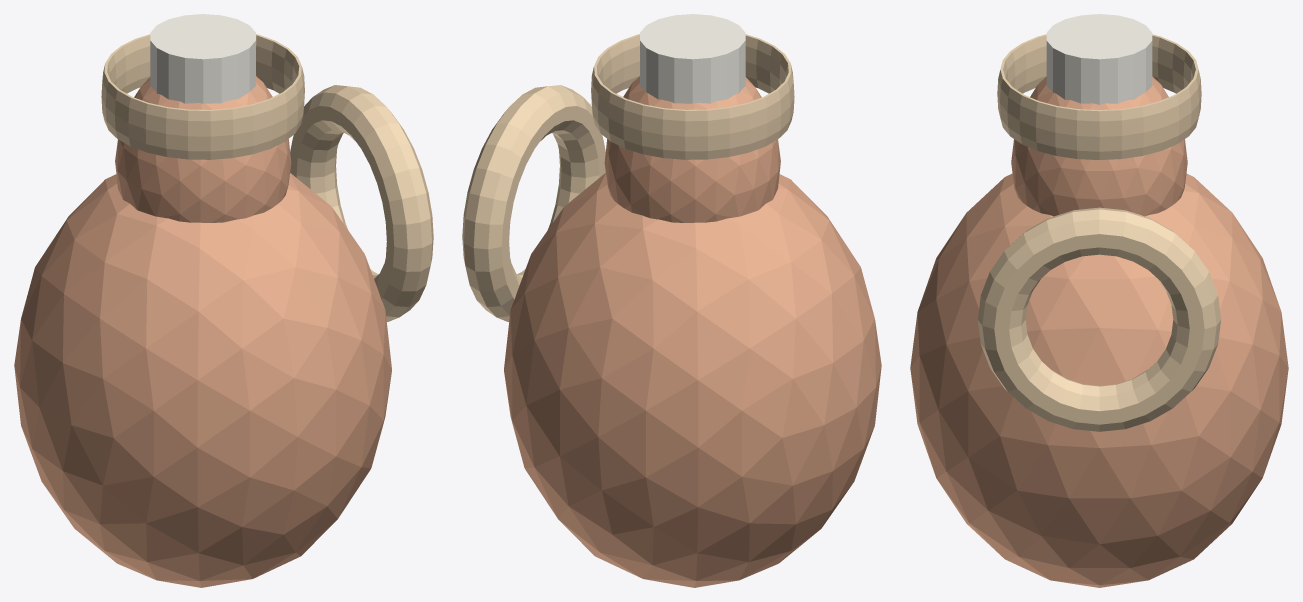
File: jar.glb
3 renders of one model, left to right at view 1: azimuth 30°, elevation 25°; view 2: azimuth 150°, elevation 25°; view 3: azimuth 270°, elevation 25°, orthographic.
Visible parts, largest first — view 1: Body, Handle, Rim, Neck, Cork; view 2: Body, Handle, Rim, Neck, Cork; view 3: Body, Handle, Rim, Neck, Cork.
Boxes of the visible parts, x1,y1,x2,y2 form: Body: [14, 173, 391, 587]; Handle: [290, 85, 433, 321]; Rim: [101, 34, 304, 159]; Neck: [115, 76, 291, 222]; Cork: [150, 14, 255, 103]; Body: [504, 173, 881, 587]; Handle: [462, 85, 605, 321]; Rim: [591, 34, 794, 159]; Neck: [604, 76, 780, 222]; Cork: [640, 14, 745, 103]; Body: [910, 173, 1288, 587]; Handle: [977, 207, 1221, 431]; Rim: [997, 34, 1201, 159]; Neck: [1011, 76, 1187, 216]; Cork: [1046, 14, 1152, 104].
Size of the model in its own units: 0.6261 by 0.94 by 0.6.
